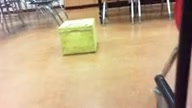cube: (58, 18, 96, 56)
